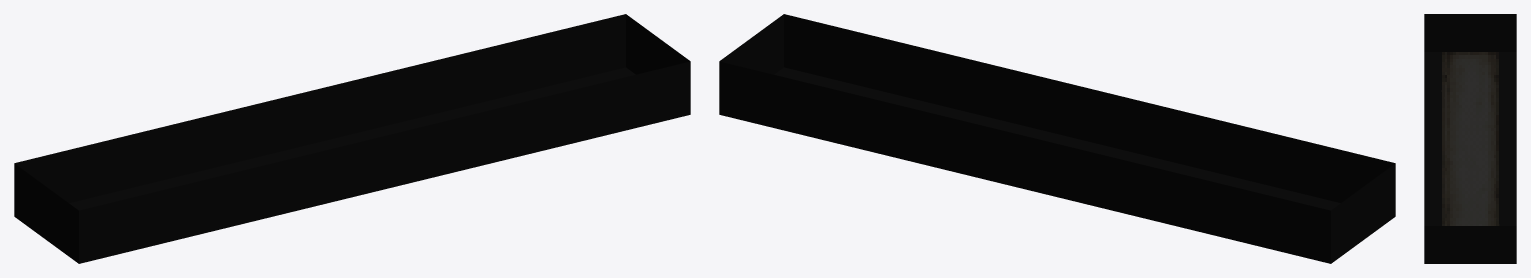
The model's file is prop_light_fixture-0.glb.
The picture shows the model from 3 angles, left to right: view 1: azimuth 30°, elevation 25°; view 2: azimuth 150°, elevation 25°; view 3: azimuth 270°, elevation 25°; orthographic projection. The views are drawn at different scales.
Parts seen in each view (by area): view 1: prop_light_fixture-0; view 2: prop_light_fixture-0; view 3: prop_light_fixture-0.
Boxes of the visible parts, <box> form: prop_light_fixture-0: <box>14,14,690,263</box>; prop_light_fixture-0: <box>719,14,1395,263</box>; prop_light_fixture-0: <box>1424,14,1516,263</box>.
Size of the model in its own units: 1.2 by 0.1 by 0.22.
1 material, 1 textured.
